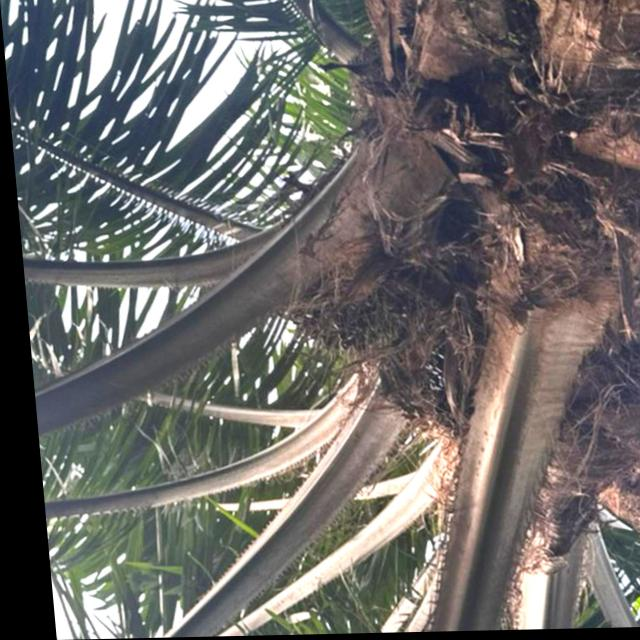unripe: (263, 250, 417, 359), (397, 318, 512, 447)
